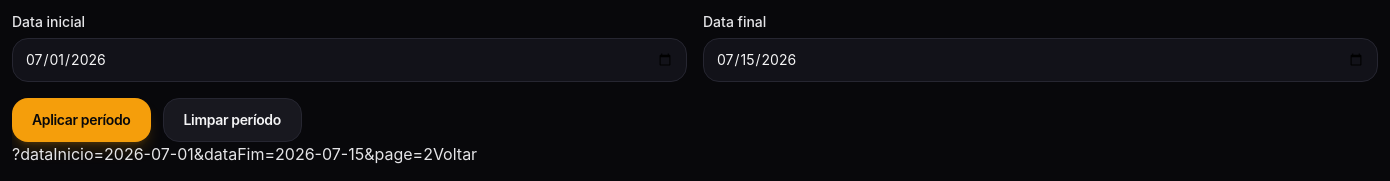
Test: OrdersPeriodFilter › clears the period and resets pagination
Click the button "Limpar período" at point(232, 120), box top-left (162, 98), bottom-right (302, 142)
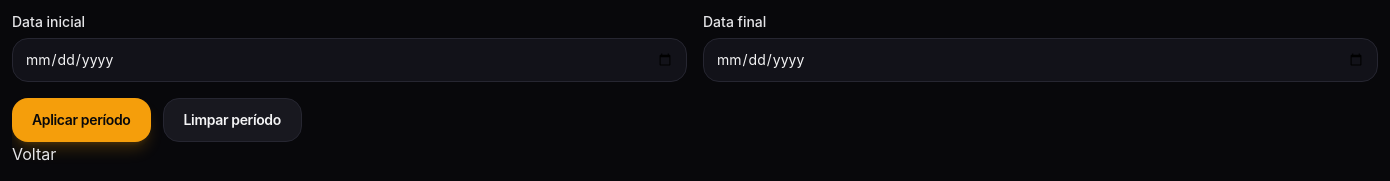
Expected: the date field labelled "Data inicial" is empty, top-left (12, 38), bottom-right (687, 82)
Expected: the date field labelled "Data final" is empty, top-left (703, 38), bottom-right (1378, 82)
